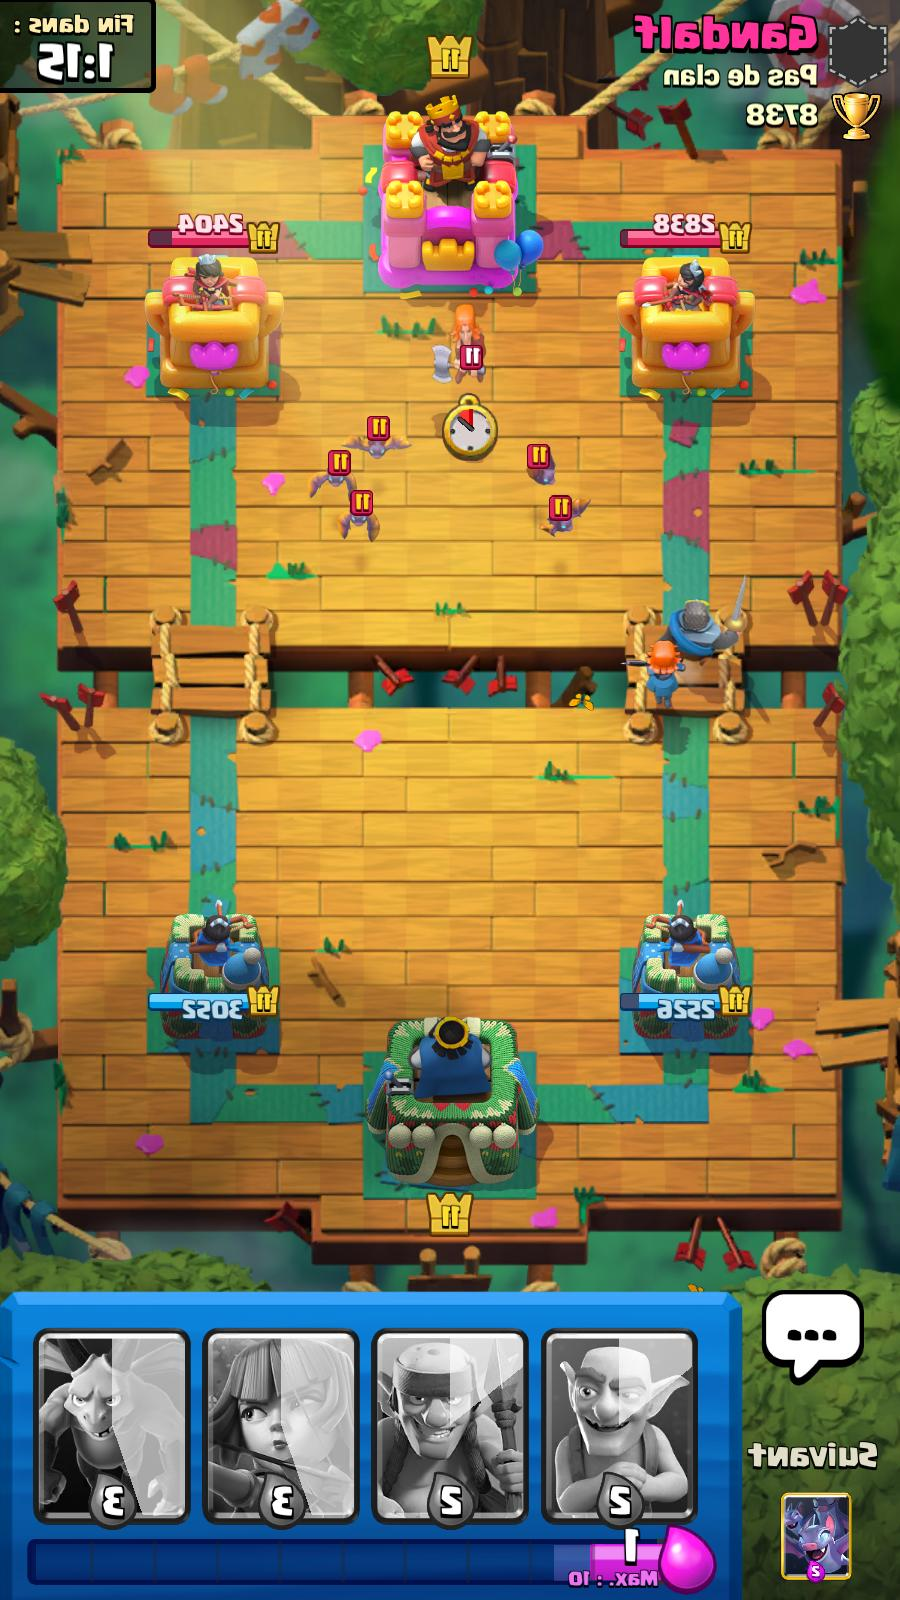bat: (336, 415, 411, 462), (303, 451, 358, 505), (535, 491, 590, 537), (335, 493, 385, 543), (521, 441, 555, 491)
valkyrie: (427, 301, 489, 384)
